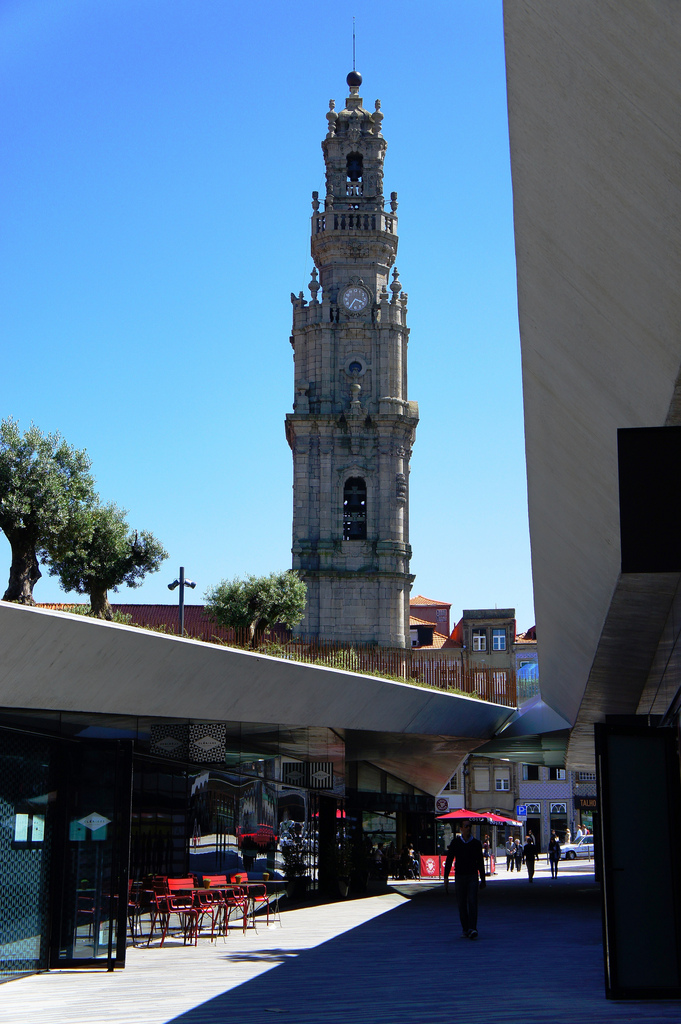clerigos: (282, 27, 424, 653)
